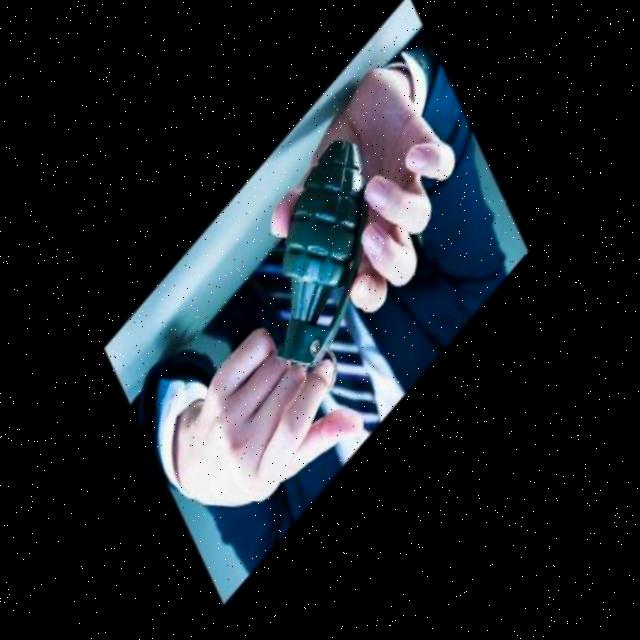grenade: (238, 125, 406, 395)
